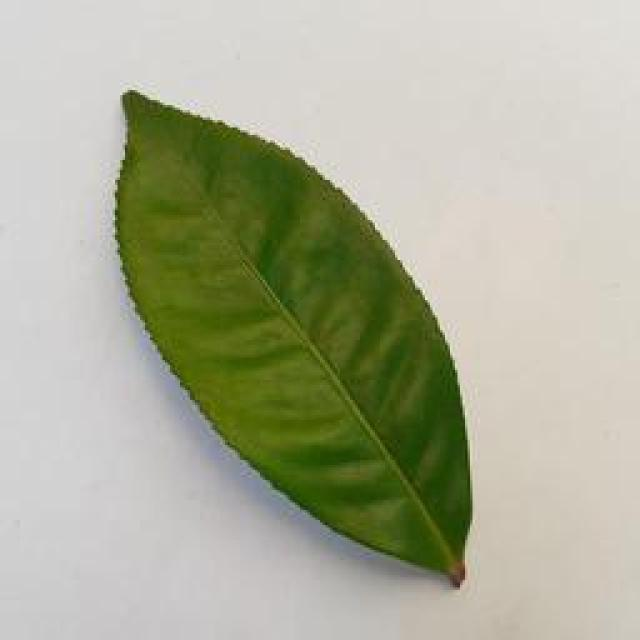Healthy: (106, 74, 483, 591)
